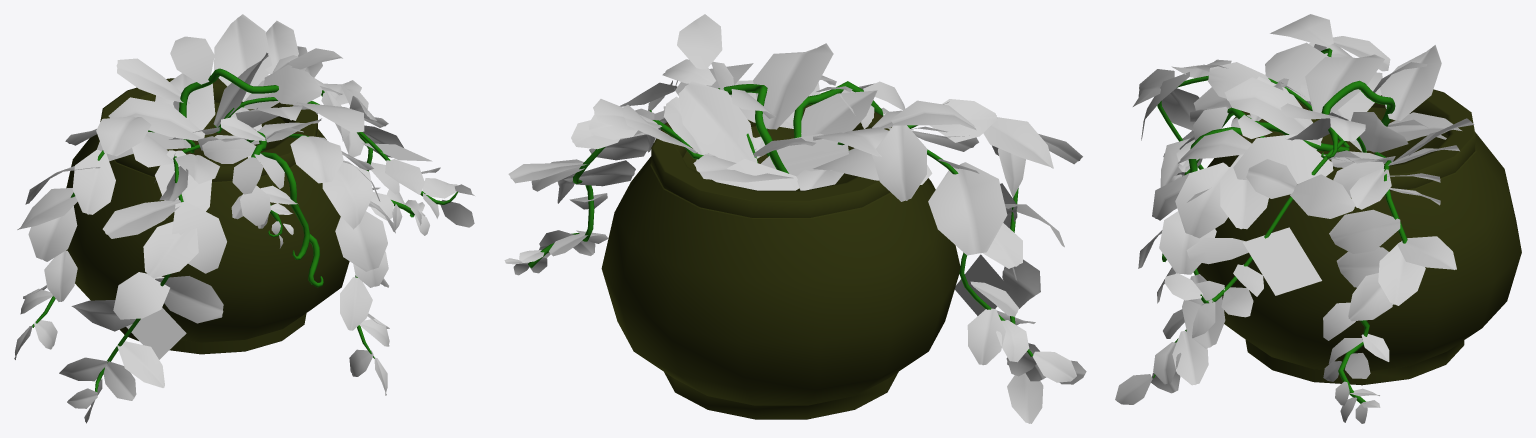
Rendered from FP_Model_SmallPottedPlant.fbx.
3 views of the same model, side by side, from view 1: azimuth 30°, elevation 25°; view 2: azimuth 150°, elevation 25°; view 3: azimuth 270°, elevation 25° (orthographic). The views are drawn at different scales.
Parts seen in each view (by area): view 1: Object, Object005; view 2: Object005, Object; view 3: Object, Object005.
Boxes of the visible parts, x1,y1,x2,y2 form: Object: (14,14,474,423); Object005: (32,68,457,392); Object005: (528,81,1033,419); Object: (504,14,1086,423); Object: (1115,14,1474,423); Object005: (1153,48,1521,403).
Bounding box in the file's own units: 39.48 × 24.7 × 28.
